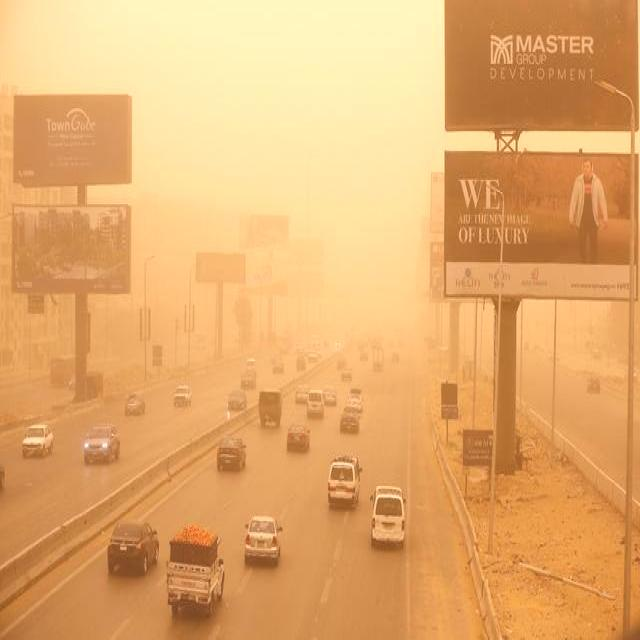Bus: (49, 356, 77, 387)
Car: (107, 520, 160, 575), (244, 515, 284, 565), (82, 424, 120, 464), (215, 435, 248, 472), (22, 423, 54, 459), (287, 424, 311, 454), (338, 406, 359, 434), (124, 391, 145, 416), (172, 385, 192, 408), (226, 390, 246, 411), (239, 368, 257, 389), (322, 385, 337, 405), (294, 384, 307, 405), (341, 367, 354, 384)
Truck: (165, 522, 225, 619), (372, 343, 385, 373)
Van: (369, 482, 407, 552), (328, 452, 363, 510), (305, 388, 325, 418)
